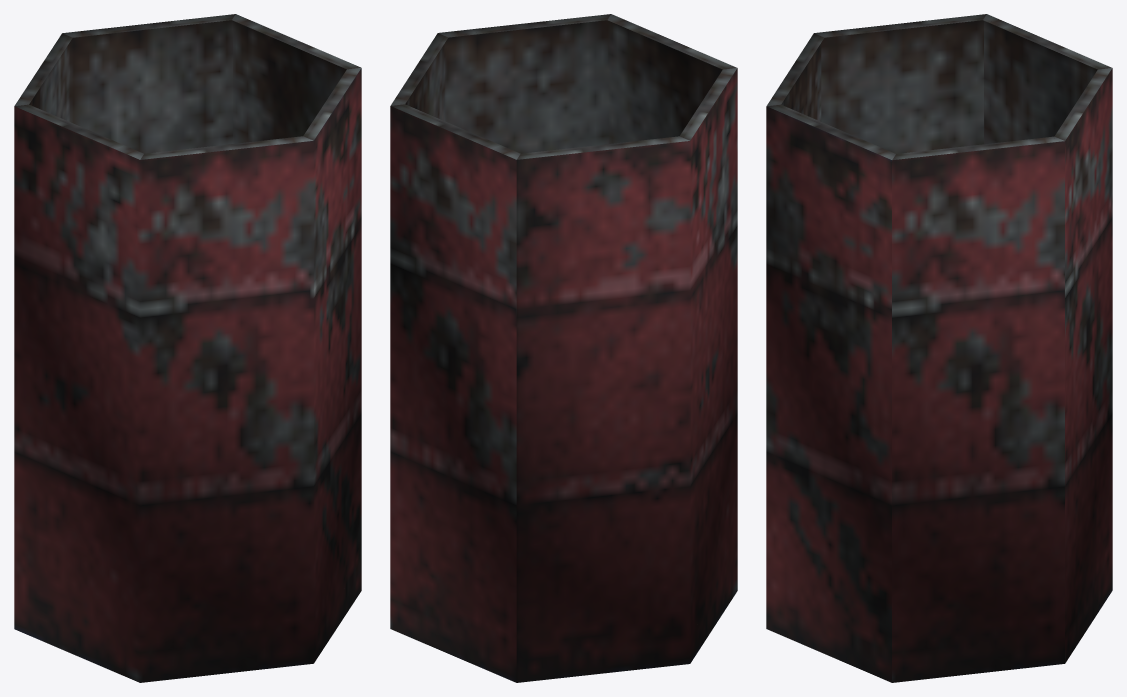
The model's file is SM_EC_55L_Drum_03.fbx.
3 renders of one model, left to right at view 1: azimuth 30°, elevation 25°; view 2: azimuth 150°, elevation 25°; view 3: azimuth 270°, elevation 25°, orthographic.
Visible parts, largest first — view 1: SM_EC_55L_Drum_03; view 2: SM_EC_55L_Drum_03; view 3: SM_EC_55L_Drum_03.
Boxes of the visible parts, bbox=[...] form: SM_EC_55L_Drum_03: bbox=[14, 14, 361, 682]; SM_EC_55L_Drum_03: bbox=[390, 14, 737, 682]; SM_EC_55L_Drum_03: bbox=[766, 14, 1112, 682].
Size of the model in its own units: 0.6 by 0.6 by 1.
